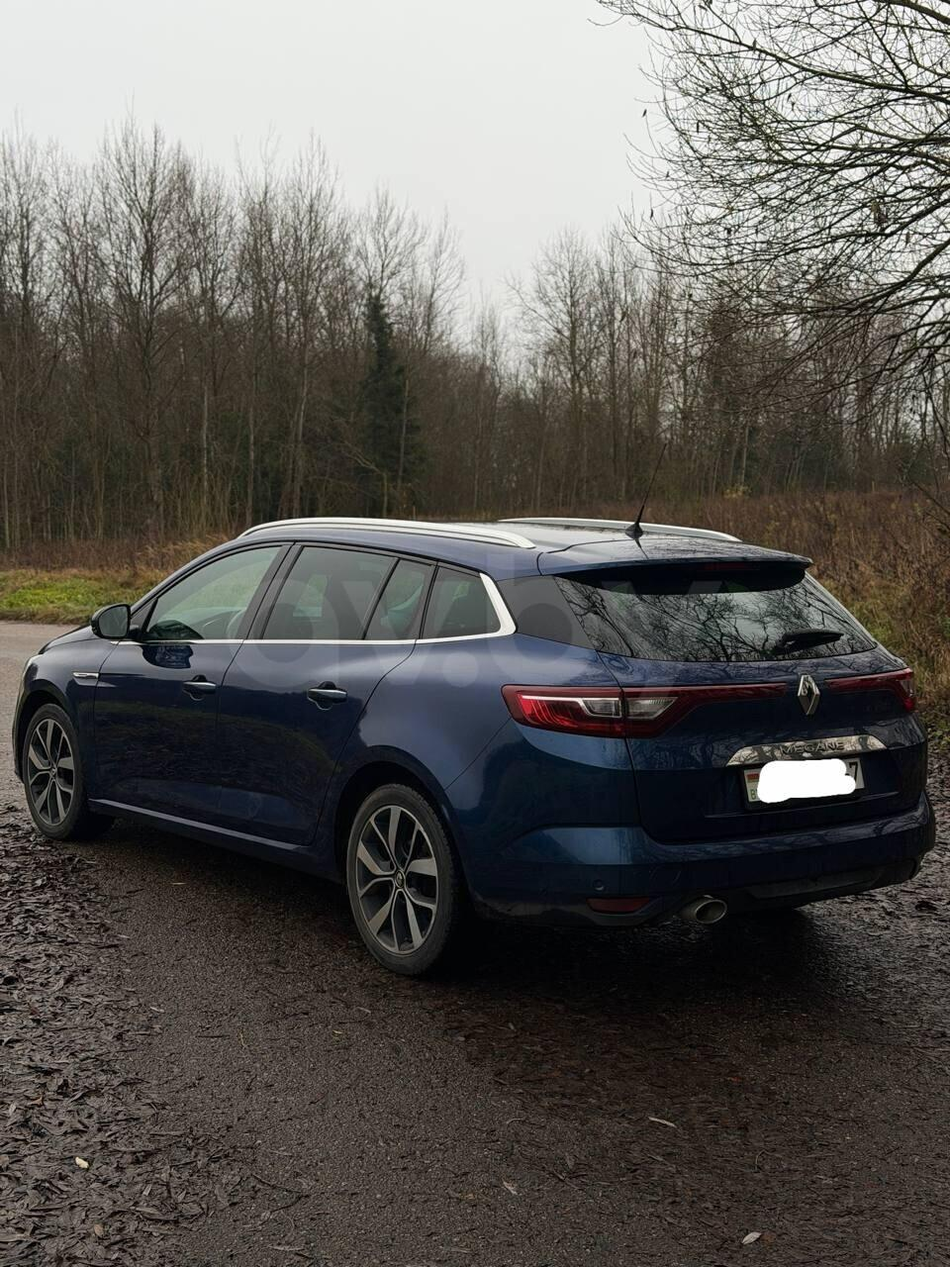Megane_2016-2020: (13, 511, 925, 988)
